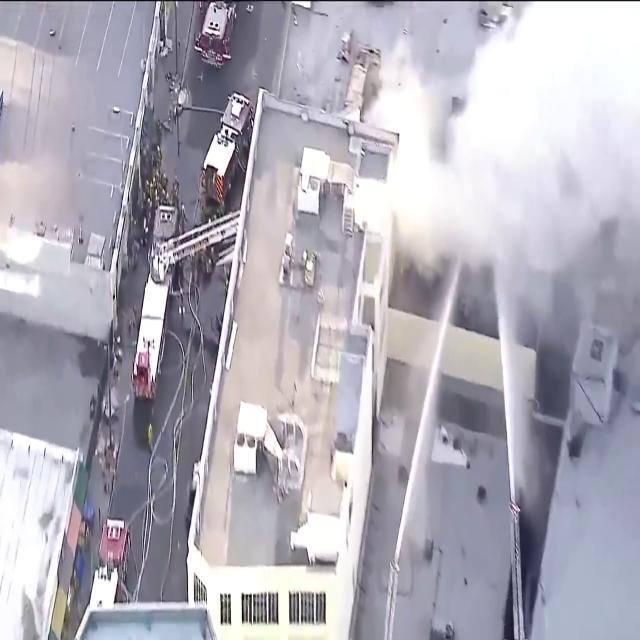Smoke: (363, 1, 640, 333)
